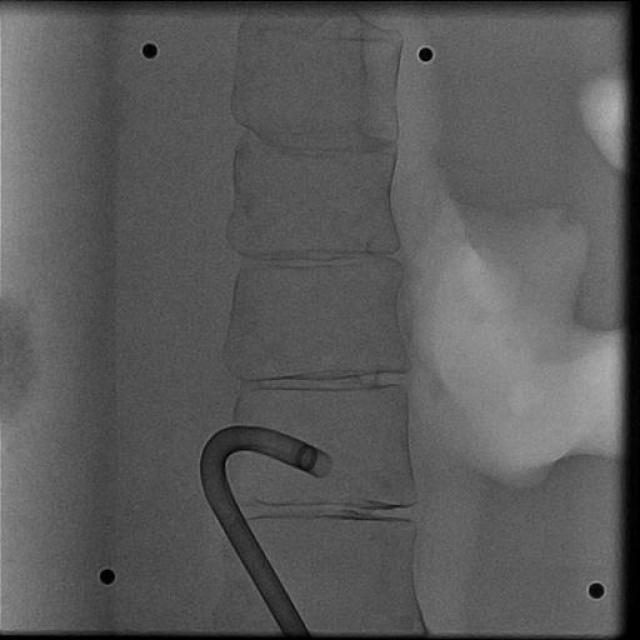bend: (200, 481, 232, 499)
entry: (283, 628, 308, 634)
marker: (293, 444, 318, 474)
tip: (312, 454, 336, 480)
